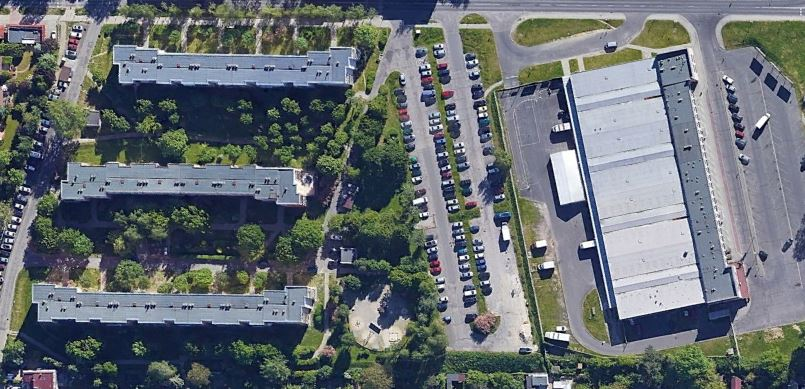block of flats: (60, 157, 325, 217), (29, 279, 317, 333), (108, 38, 368, 93)
shopping_center: (547, 46, 753, 327)
